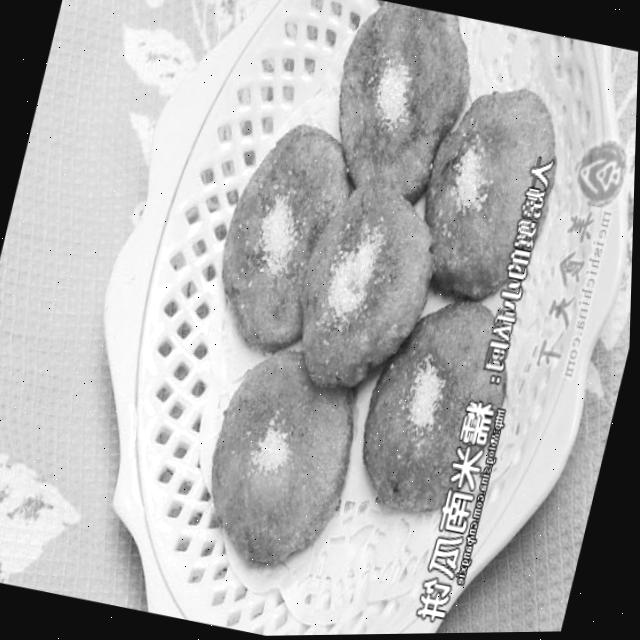炸货点心: (76, 0, 640, 639)
蛋糕甜品: (76, 0, 640, 639)
